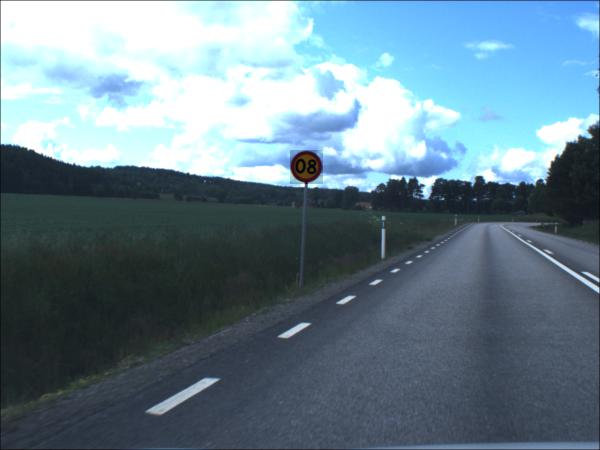80_SIGN: (290, 151, 324, 186)
